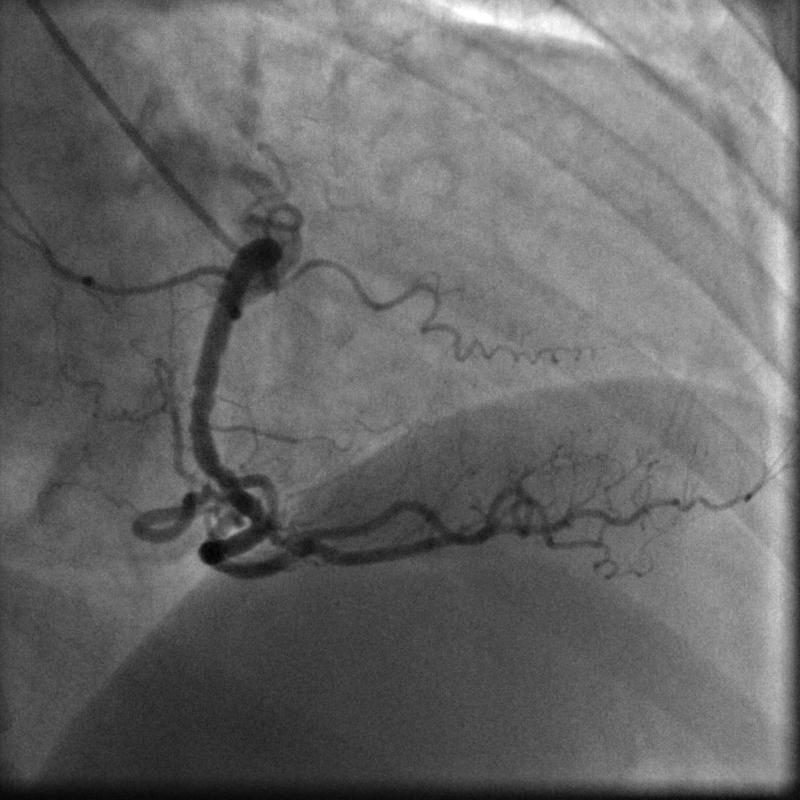Stenosis: (193, 464, 252, 497)
